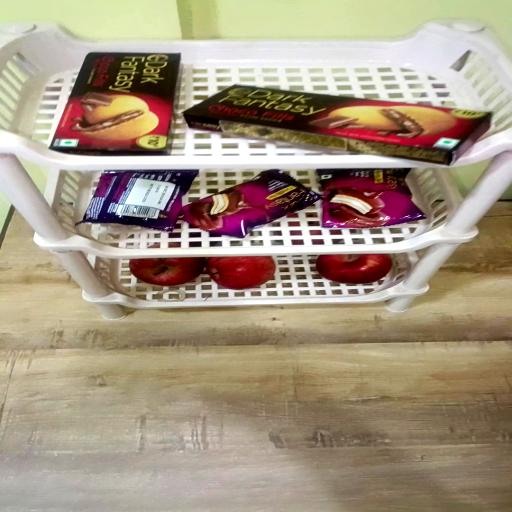Apple: (206, 256, 275, 290), (317, 254, 392, 284), (129, 257, 205, 286)
Choco Fills: (183, 84, 493, 165), (50, 50, 181, 155)
Choco Pie: (181, 170, 320, 238), (75, 170, 198, 231), (316, 168, 426, 229)
